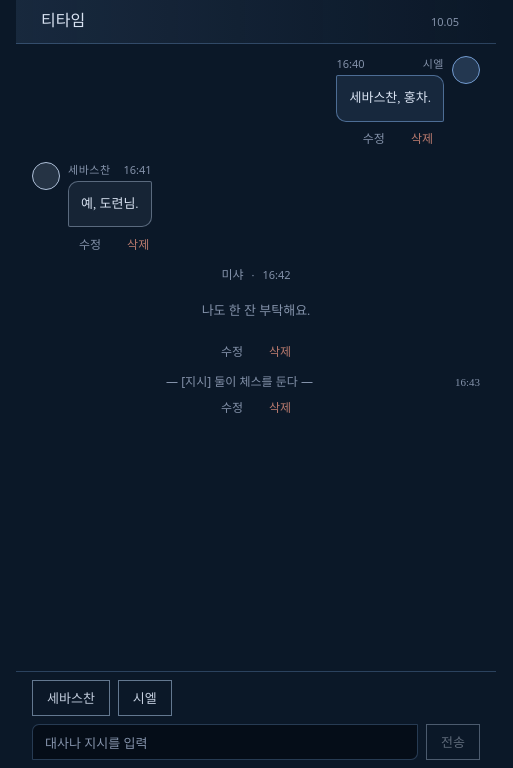
Scenario: 저장 실패 → AI 호출 0회 (R-CHAT-006 · R-CHAT-011) › TC-CH-101: 저장 실패 RATE_LIMITED(retryAfterSec=40) → speak 0회 · 입력 유지 · S2 토스트 · 중립 없음 · 전환 없음
The image size is (513, 768).
Check: the element named "대화 기록" is shown, box x1=32 y1=56 x2=480 y2=423
Type "안녕" into the text box named "메시지 입력". click: (225, 742)
box: x1=32 y1=724 x2=418 y2=760
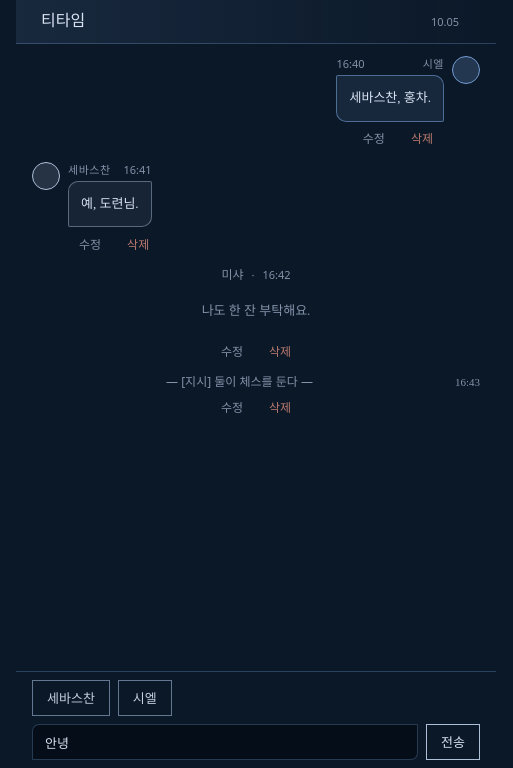
Click the button "전송". click: (453, 742)
box: x1=426 y1=724 x2=480 y2=760
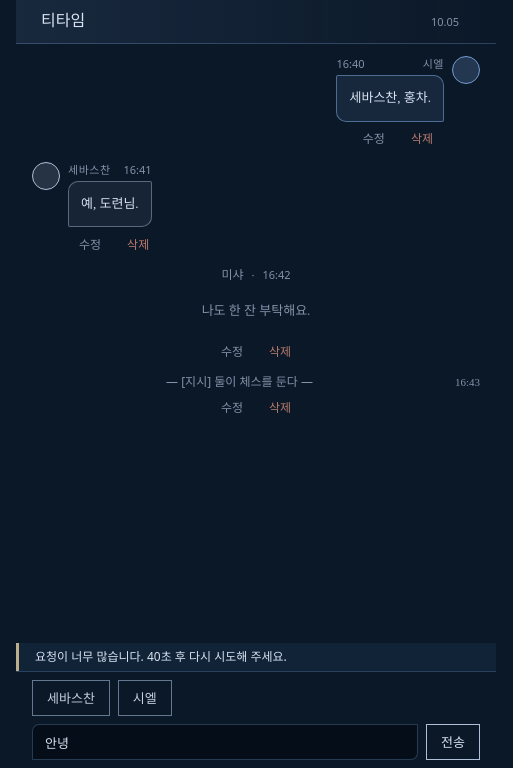
Check: the number of list items is 4, box x1=336 y1=56 x2=480 y2=154; x1=32 y1=162 x2=160 y2=259; x1=202 y1=266 x2=310 y2=366; x1=166 y1=373 x2=480 y2=423
Check: the button "전송" is enabled, box x1=426 y1=724 x2=480 y2=760
Check: the message reads "요청이 너무 많습니다. 40초 후 다시 시도해 주세요.", box x1=35 y1=648 x2=287 y2=665
